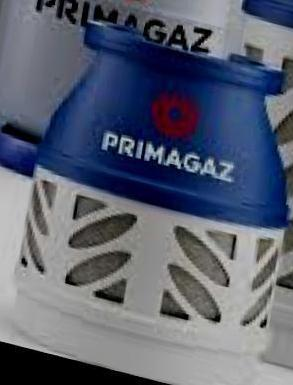cylinder: (1, 1, 293, 385)
